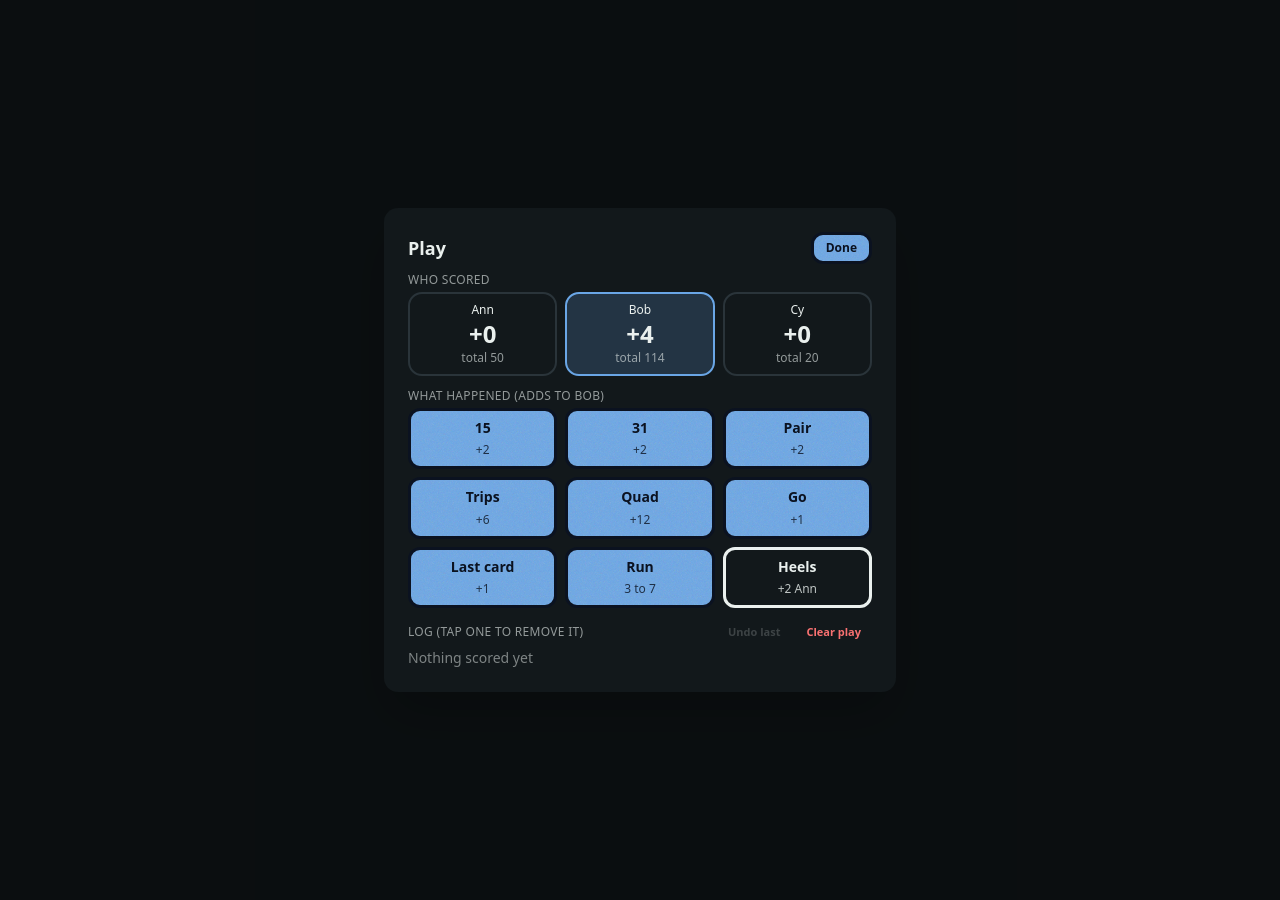
Scenario: PlaySheet › buzzes and names who scored in a toast
Click the text "Go" at {"x": 797, "y": 497}, box [788,488,807,506]
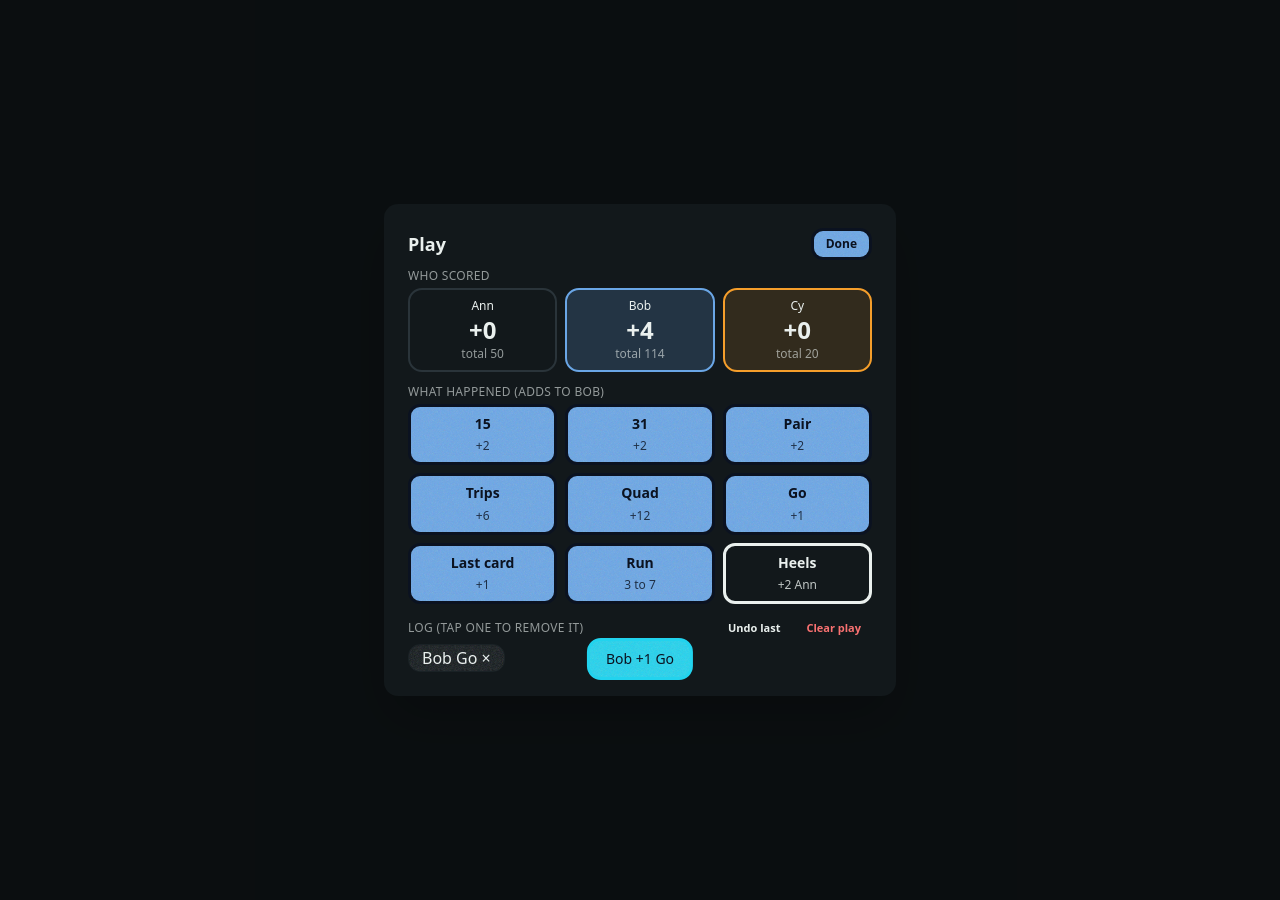
Expected: the message reads "Bob +1 Go", [606,649,674,668]
